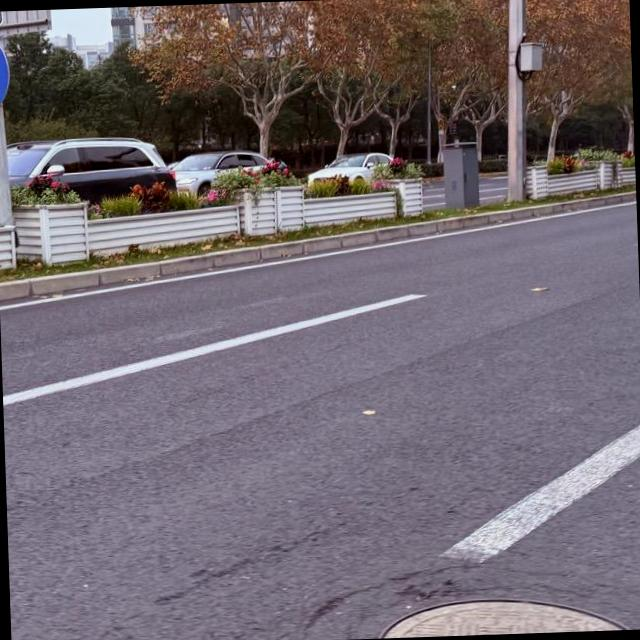curb: (0, 191, 635, 302)
